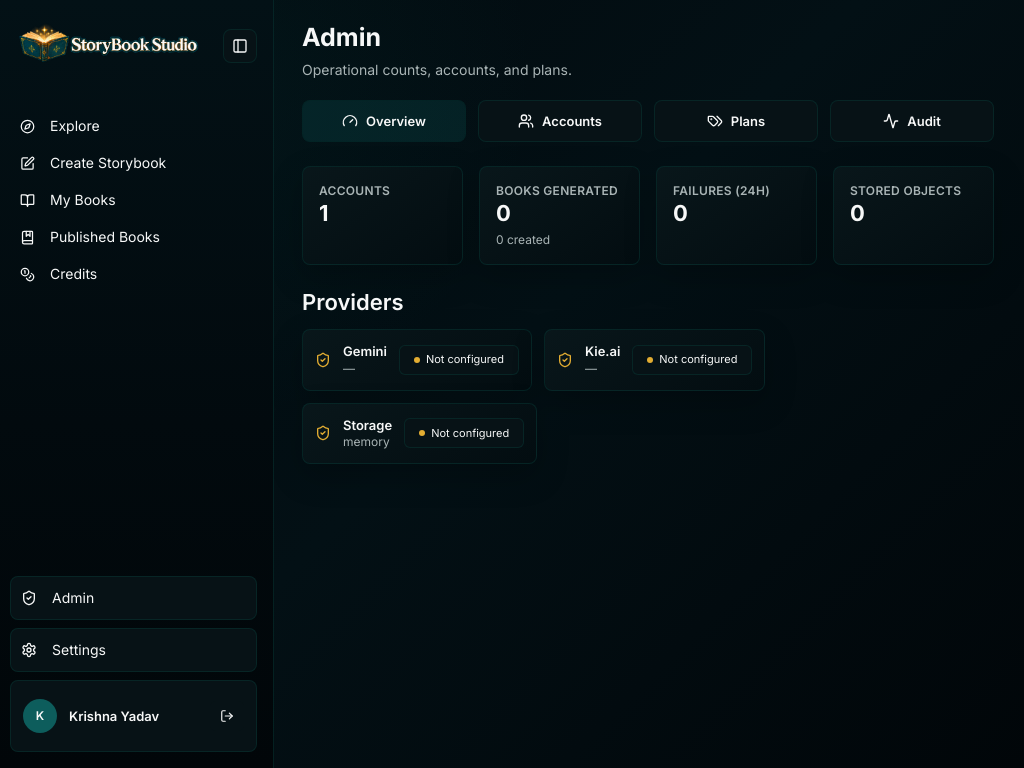
Test case: bonus links in the admin panel › shows each link as the URL to hand out, with how often it was redeemed
The width and height of the screenshot is (1024, 768).
Click the tab "Plans" at (736, 121), box [654, 100, 818, 142]
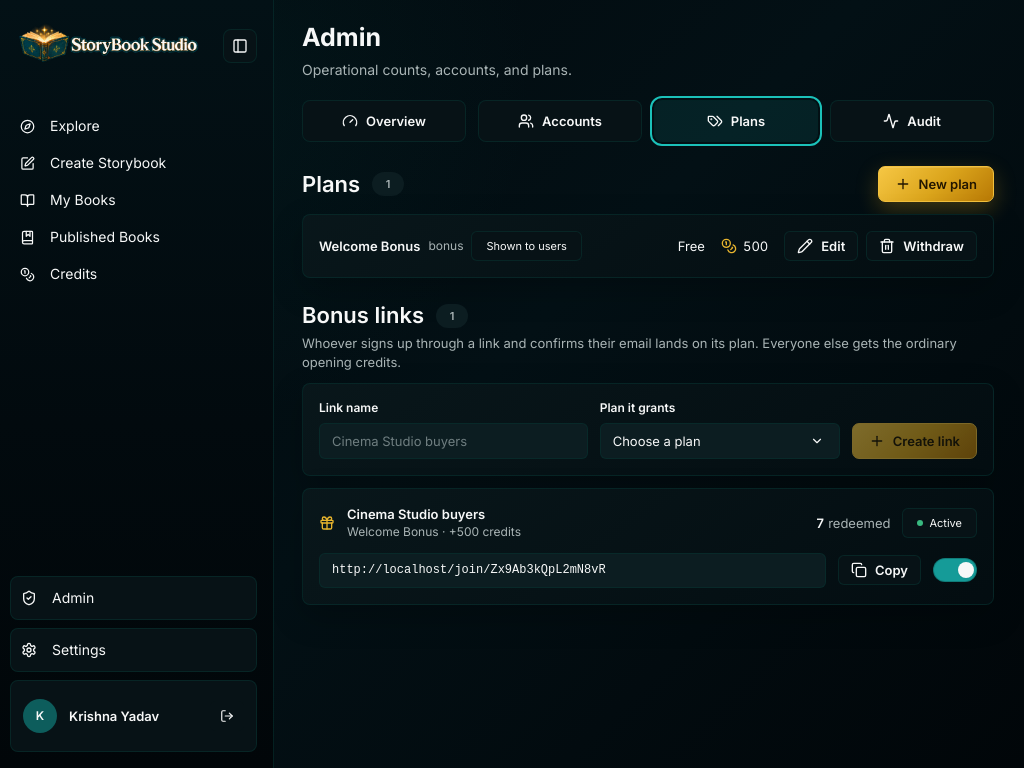
Check: the text "Cinema Studio buyers" is shown, box [347, 506, 485, 522]
Check: the text "http://localhost/join/Zx9Ab3kQpL2mN8vR" is shown, box [319, 553, 826, 588]
Check: the text "redeemed" is shown, box [828, 515, 890, 531]
